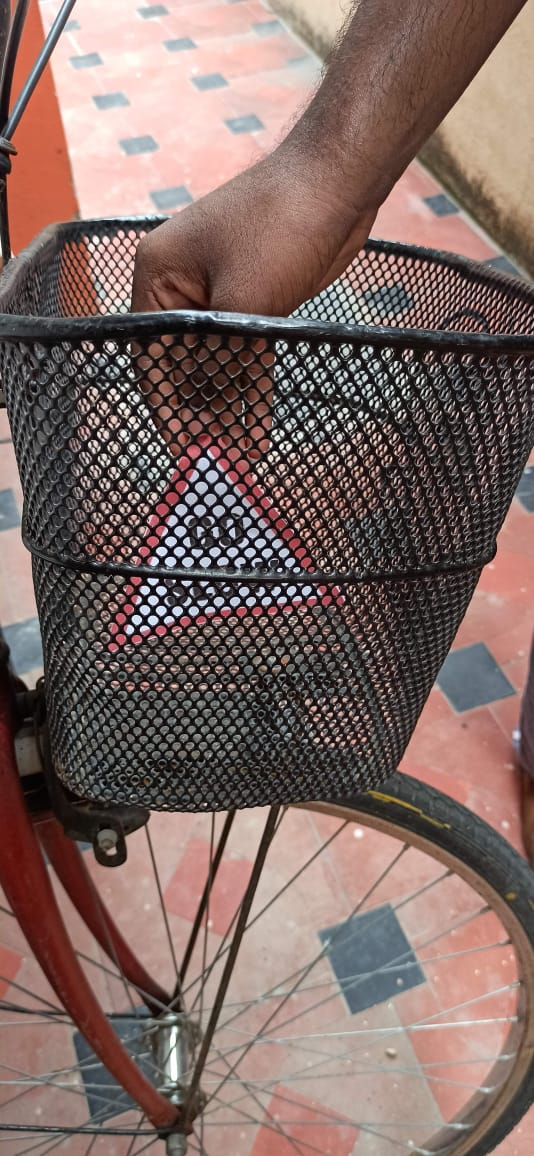GO SLOW: (91, 398, 363, 639)
